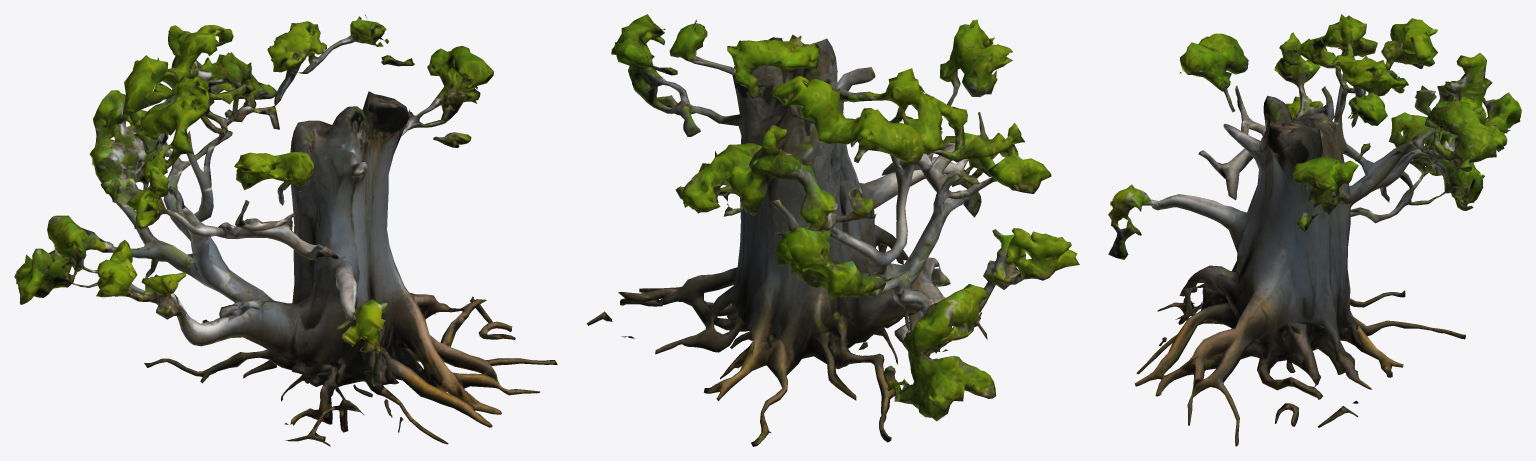
The picture shows the model from 3 angles, left to right: view 1: azimuth 30°, elevation 25°; view 2: azimuth 150°, elevation 25°; view 3: azimuth 270°, elevation 25°; orthographic projection. The views are drawn at different scales.
Size of the model in its own units: 1.89 by 1.38 by 1.7.
1 material, 1 textured.
